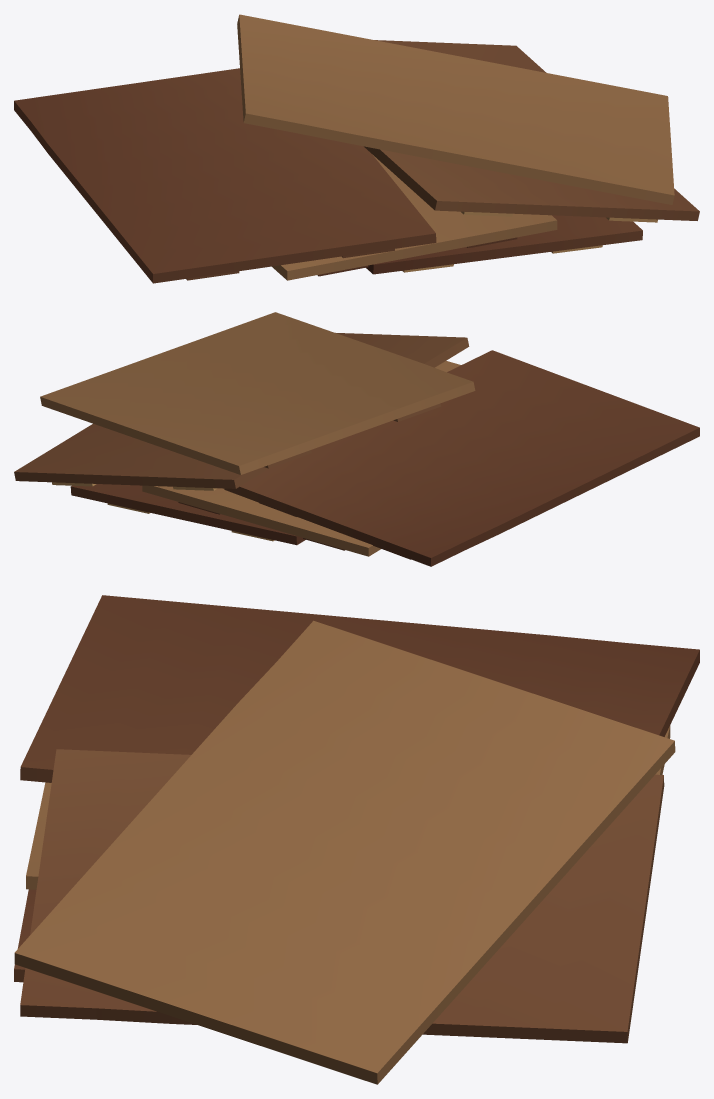
The model's file is Multiple Small Messy Light Crate Lids.fbx.
3 views of the same model, one above another, from view 1: azimuth 30°, elevation 25°; view 2: azimuth 150°, elevation 25°; view 3: azimuth 270°, elevation 25° (orthographic). The views are drawn at different scales.
Parts seen in each view (by area): view 1: Small Multiple Messy Light Crate Lids; view 2: Small Multiple Messy Light Crate Lids; view 3: Small Multiple Messy Light Crate Lids.
Part boxes in pixels (box(x1,y1,x2,y2)): Small Multiple Messy Light Crate Lids: box(14, 14, 699, 283); Small Multiple Messy Light Crate Lids: box(14, 312, 699, 566); Small Multiple Messy Light Crate Lids: box(14, 595, 699, 1084).
Bounding box in the file's own units: 64.12 × 229 × 330.
Materials: 1 (1 with a texture image).
